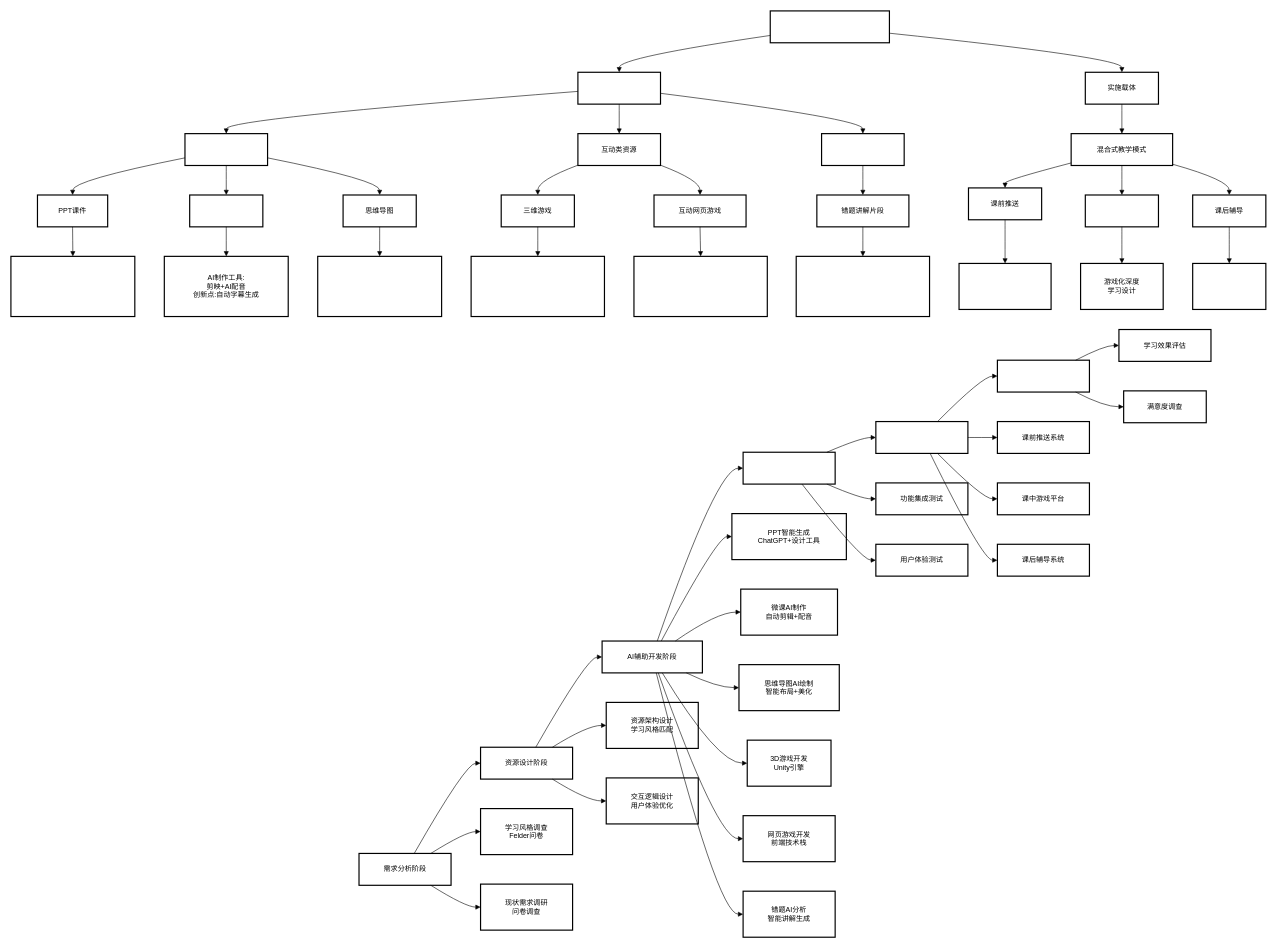
The diagram is 1276 pixels wide and 948 high, and some of its shapes have lost their labels. The shapes that lost their labels are listed below. From the top down, each one's box as (x1, y1, x2, y2) in pixels, then its label:
(769, 10, 890, 43): AI赋能教学资源开发
(577, 71, 661, 104): 数字化资源
(184, 133, 268, 166): 演示类资源
(821, 133, 904, 166): 辅助类资源
(189, 194, 263, 227): 微课视频
(1084, 194, 1159, 227): 课中互动
(10, 255, 135, 317): AI设计工具: ChatGPT+Canva 创新点:智能内容生成
(317, 255, 442, 317): AI绘图工具: XMind+AI美化 创新点:自动布局优化
(470, 255, 605, 317): 开发工具: Unity3D+Blender 创新点:沉浸式学习体验
(633, 255, 768, 317): 开发工具: HTML5+JavaScript 创新点:自适应交互设计
(795, 255, 930, 317): AI分析工具: 智能错题识别 创新点:个性化讲解生成
(958, 263, 1051, 310): 基于学习风格 智能推荐算法
(1192, 263, 1266, 310): AI驱动的 精准辅导
(997, 359, 1090, 392): 效果评价阶段
(875, 421, 968, 454): 部署应用阶段
(742, 451, 835, 484): 集成测试阶段
